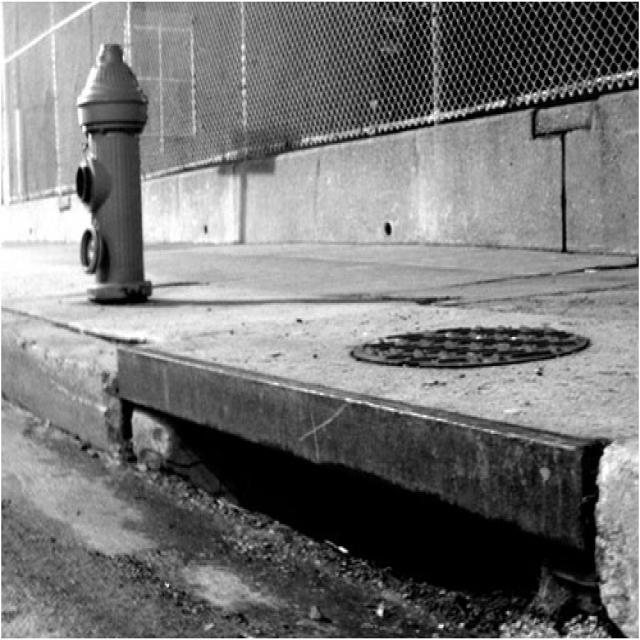fire_hydrant: (79, 36, 150, 312)
